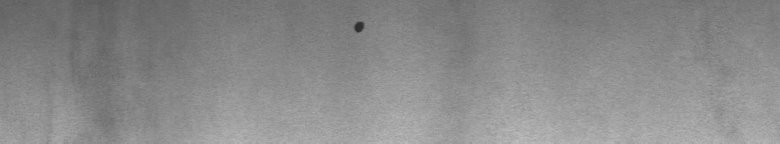fi: (348, 14, 371, 40)
